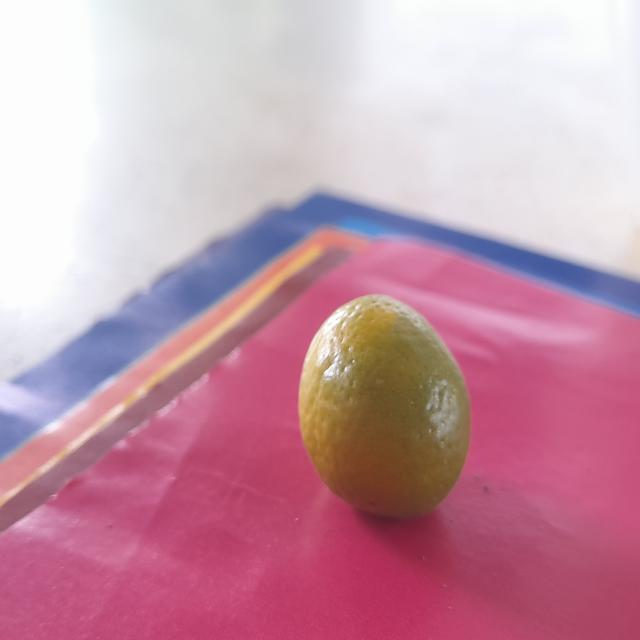greening: (300, 291, 469, 531)
